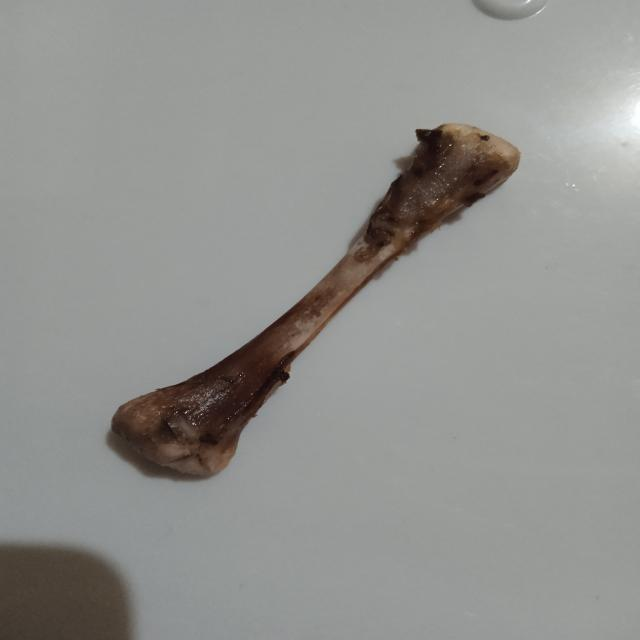bone: (105, 115, 532, 485)
